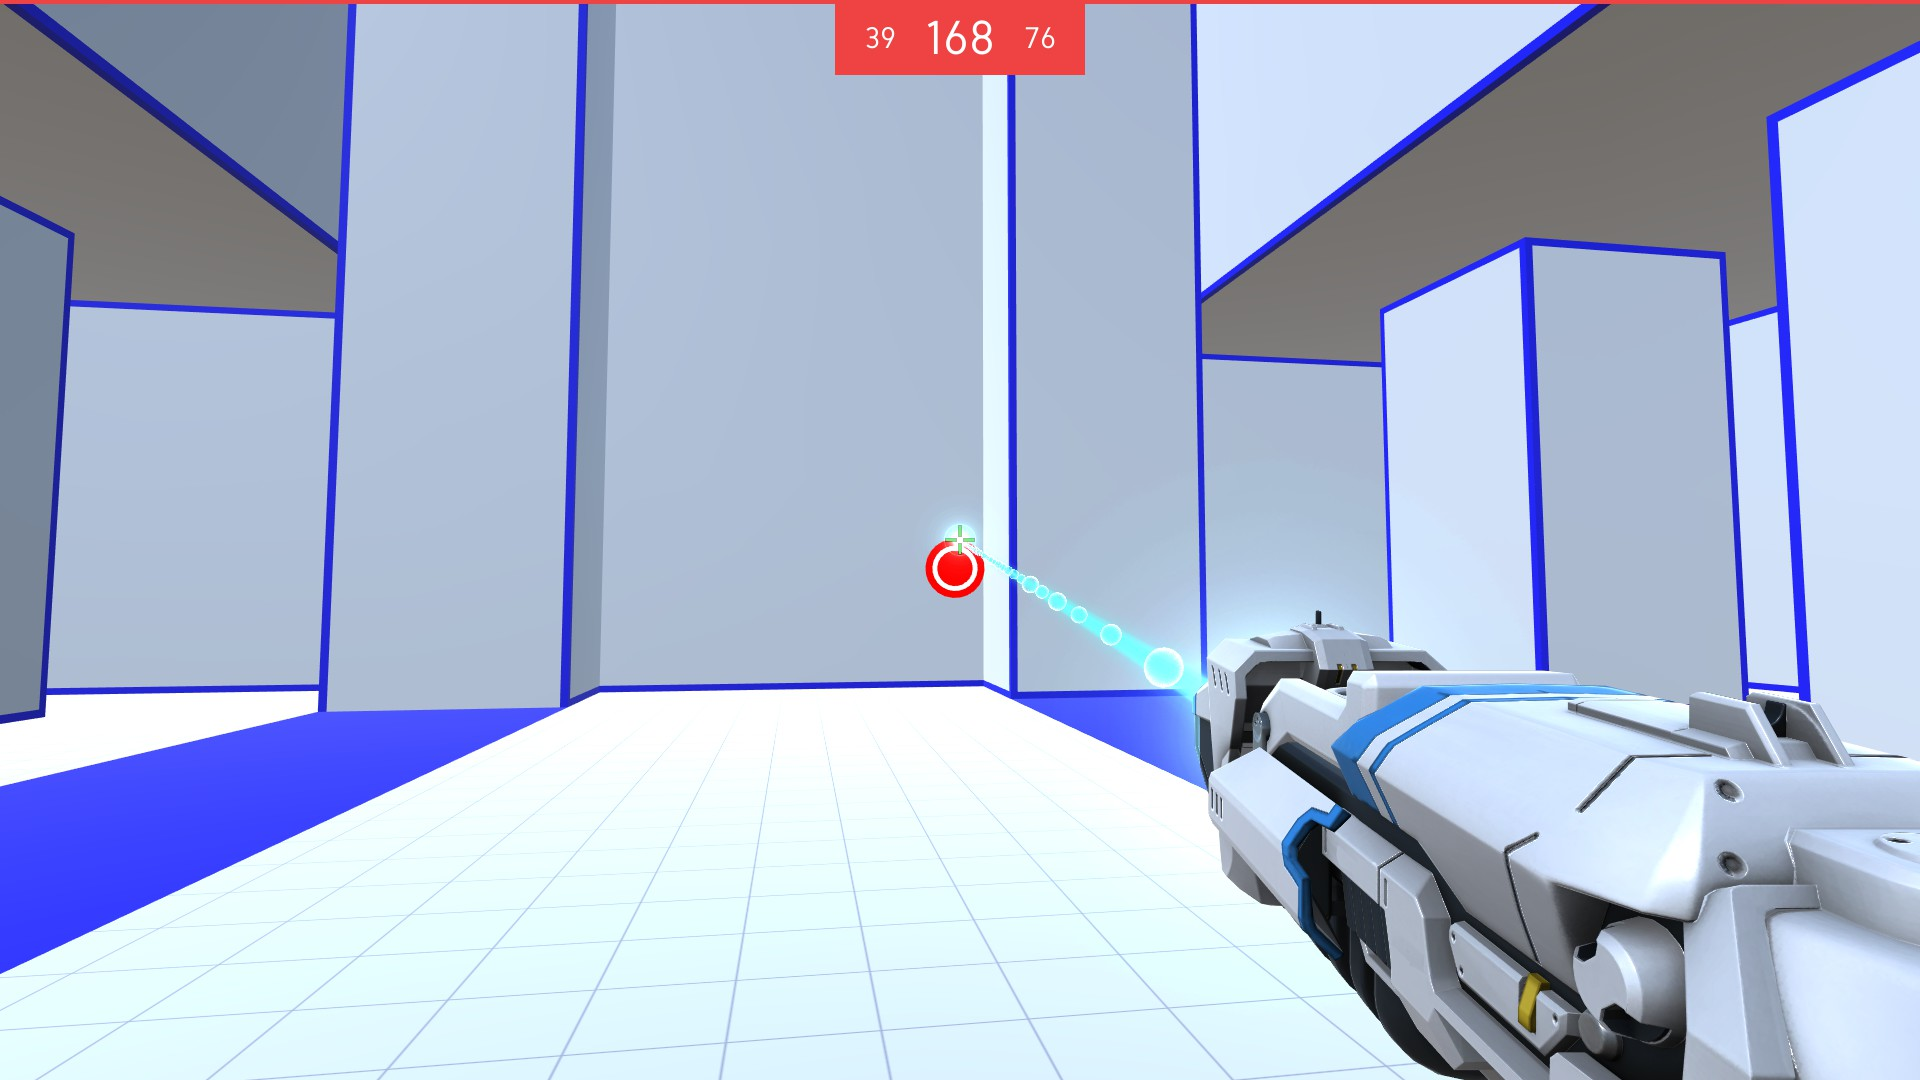target: (920, 541, 988, 597)
